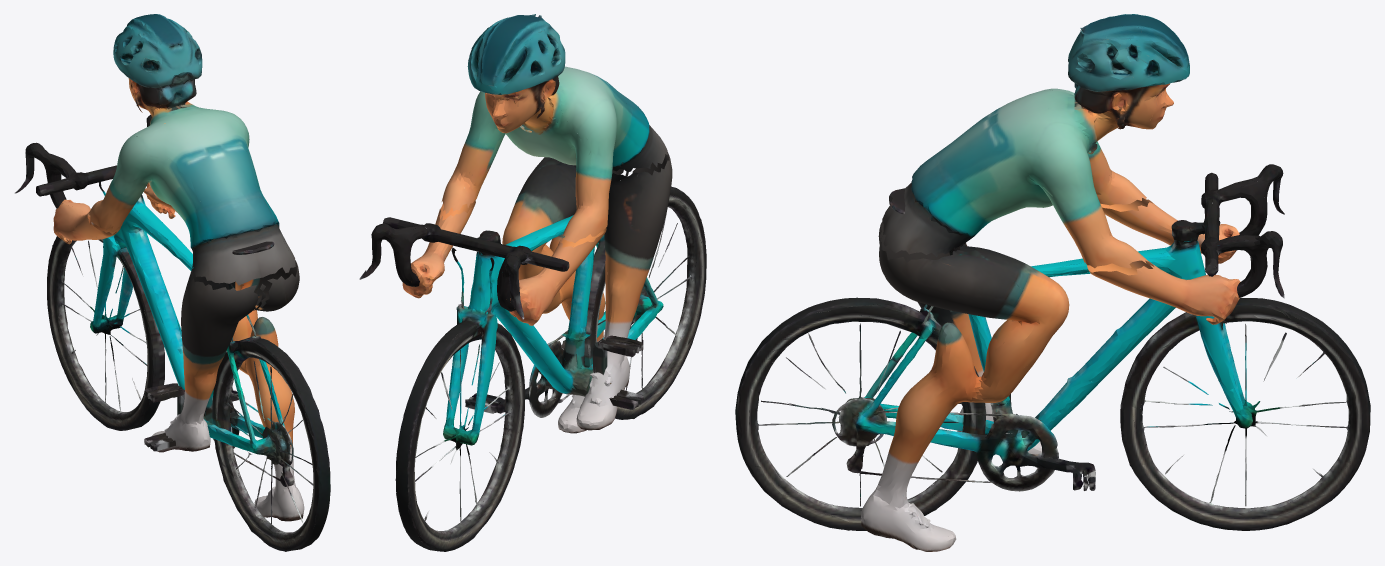
File: RiderBikeHiFi.fbx
The picture shows the model from 3 angles, left to right: view 1: azimuth 30°, elevation 25°; view 2: azimuth 150°, elevation 25°; view 3: azimuth 270°, elevation 25°; orthographic projection. The views are drawn at different scales.
Parts seen in each view (by area): view 1: CyclistBody, FrontWheel, RightLeg, RearWheel, BikeBody, LeftLeg; view 2: CyclistBody, BikeBody, RearWheel, RightLeg, FrontWheel, LeftLeg; view 3: CyclistBody, LeftLeg, BikeBody, RearWheel, FrontWheel, RightLeg.
Part boxes in pixels (<box>): CyclistBody: <box>89,14,295,310</box>; FrontWheel: <box>172,315,330,551</box>; RightLeg: <box>53,199,258,452</box>; RearWheel: <box>47,235,165,430</box>; BikeBody: <box>14,114,274,451</box>; LeftLeg: <box>143,182,304,521</box>; CyclistBody: <box>441,14,667,242</box>; BikeBody: <box>359,215,643,417</box>; RearWheel: <box>395,305,525,551</box>; RightLeg: <box>509,152,672,430</box>; FrontWheel: <box>551,186,706,419</box>; LeftLeg: <box>402,157,623,433</box>; CyclistBody: <box>881,14,1189,268</box>; LeftLeg: <box>861,242,1240,551</box>; BikeBody: <box>856,164,1284,491</box>; RearWheel: <box>1095,298,1370,530</box>; FrontWheel: <box>735,297,1011,530</box>; RightLeg: <box>878,197,1239,454</box>.
Bounding box in the file's own units: 1.13 × 2.86 × 3.23.
Materials: 2 (2 with a texture image).
